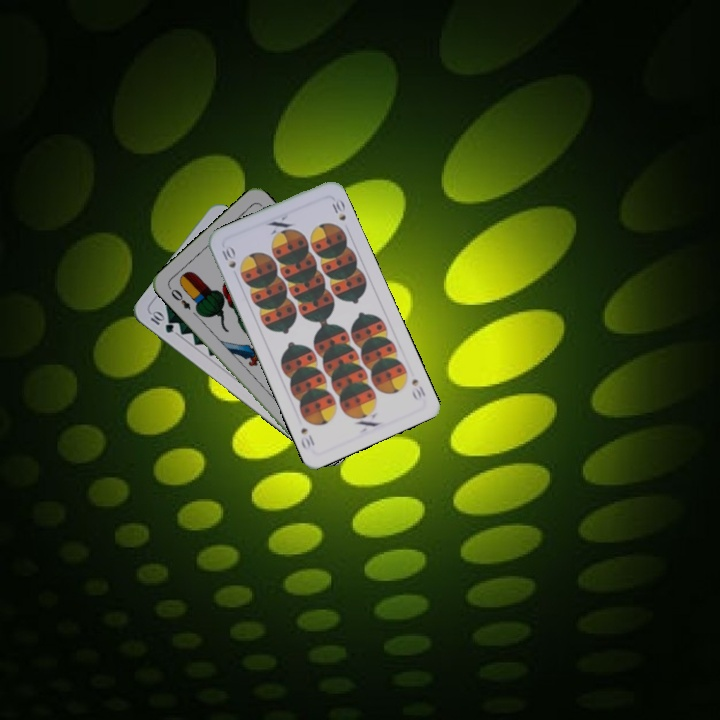EO: (165, 283, 193, 312)
G10: (146, 307, 176, 336)
S10: (407, 374, 428, 403), (218, 242, 238, 271)
